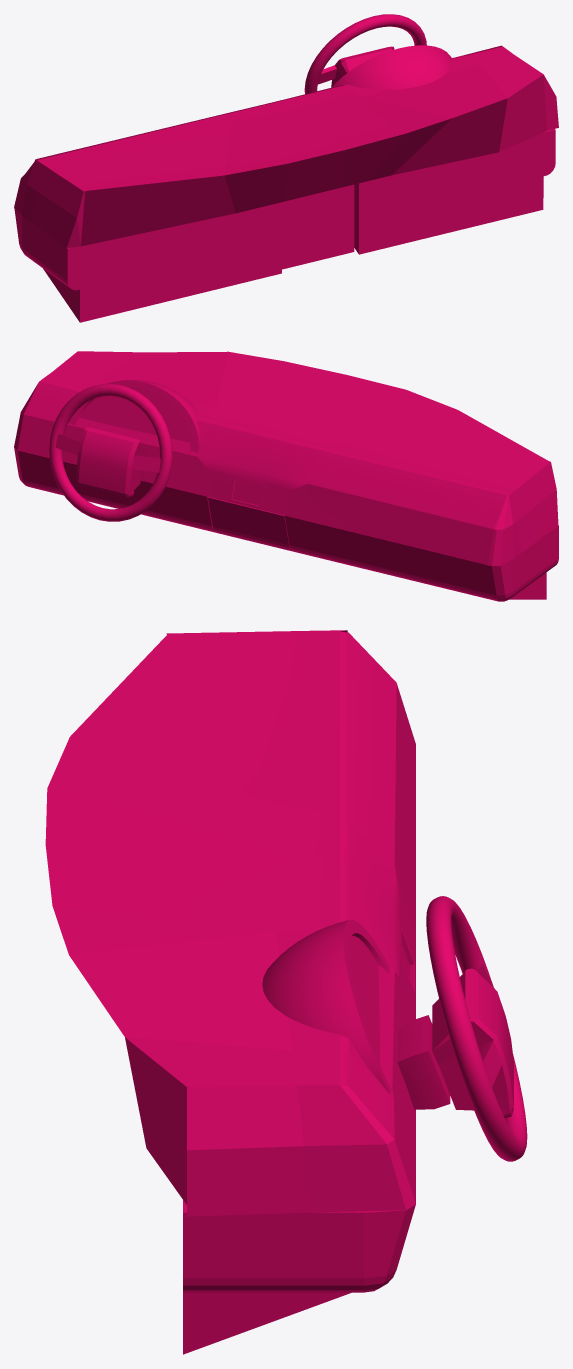
Rendered from Car_Dashboard.fbx.
3 views of the same model, one above another, from view 1: azimuth 30°, elevation 25°; view 2: azimuth 150°, elevation 25°; view 3: azimuth 270°, elevation 25° (orthographic). The views are drawn at different scales.
Parts seen in each view (by area): view 1: Car_Dashboard; view 2: Car_Dashboard; view 3: Car_Dashboard.
Boxes of the visible parts, x1,y1,x2,y2 form: Car_Dashboard: (14,14,558,322); Car_Dashboard: (14,351,558,601); Car_Dashboard: (45,630,527,1354).
Size of the model in its own units: 160 by 53.2 by 67.58.
